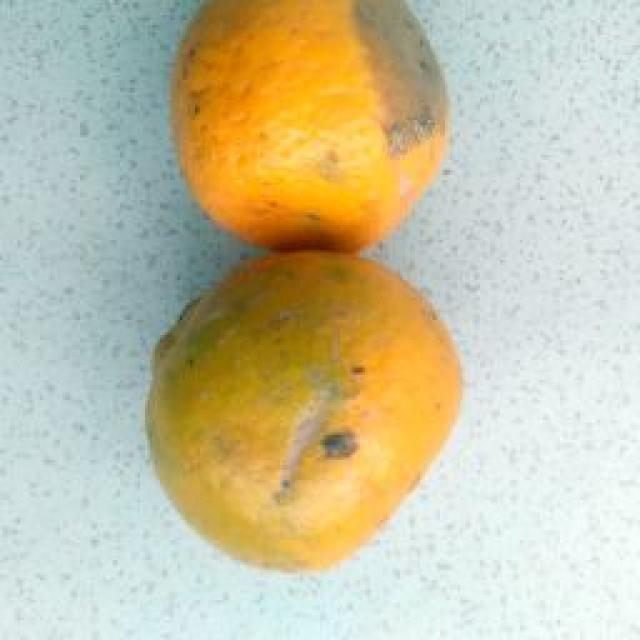Bad_Orange: (146, 254, 460, 569)
